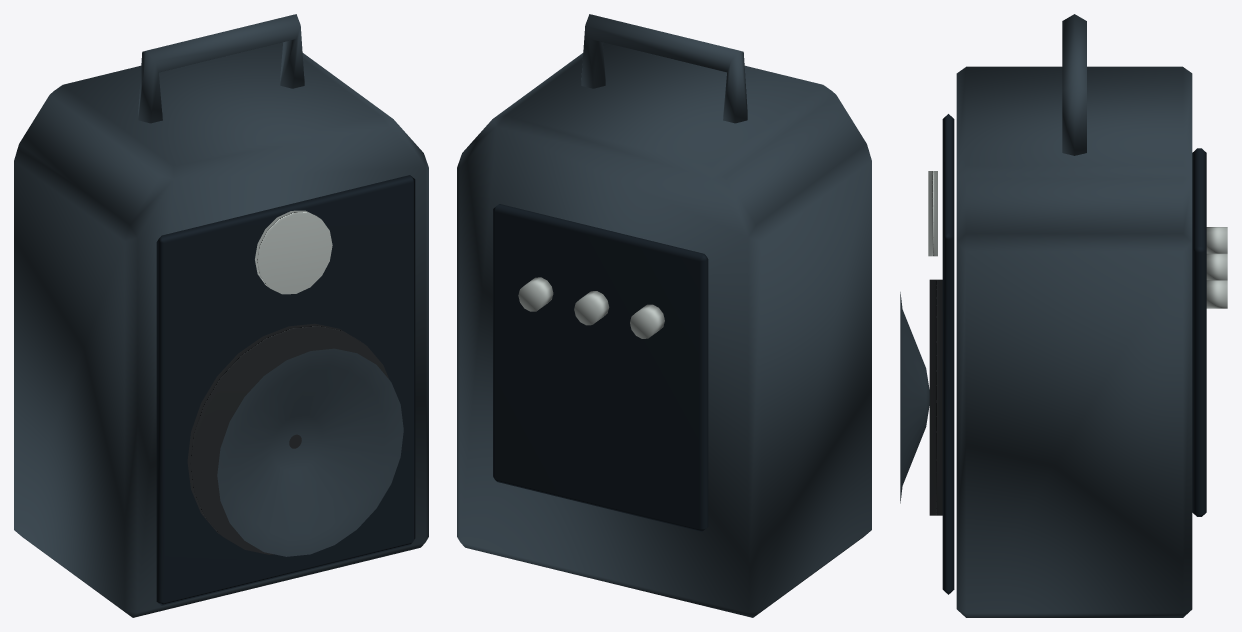
Rendered from P084_small_speaker_rebuilt.glb.
3 renders of one model, left to right at view 1: azimuth 30°, elevation 25°; view 2: azimuth 150°, elevation 25°; view 3: azimuth 270°, elevation 25°, orthographic. The views are drawn at different scales.
Visible parts, largest first — view 1: shell, dark, rubber, silver; view 2: shell, dark, silver; view 3: shell, dark, rubber, silver.
Boxes of the visible parts, bbox=[...] form: shell: bbox=[14, 14, 428, 617]; dark: bbox=[156, 175, 415, 605]; rubber: bbox=[187, 323, 389, 554]; silver: bbox=[255, 210, 332, 294]; shell: bbox=[457, 14, 871, 617]; dark: bbox=[493, 204, 708, 531]; silver: bbox=[518, 277, 664, 338]; shell: bbox=[900, 14, 1192, 617]; dark: bbox=[942, 114, 1206, 594]; rubber: bbox=[929, 279, 942, 515]; silver: bbox=[928, 171, 1227, 308].
Size of the model in its own units: 0.19 by 0.3044 by 0.181.
